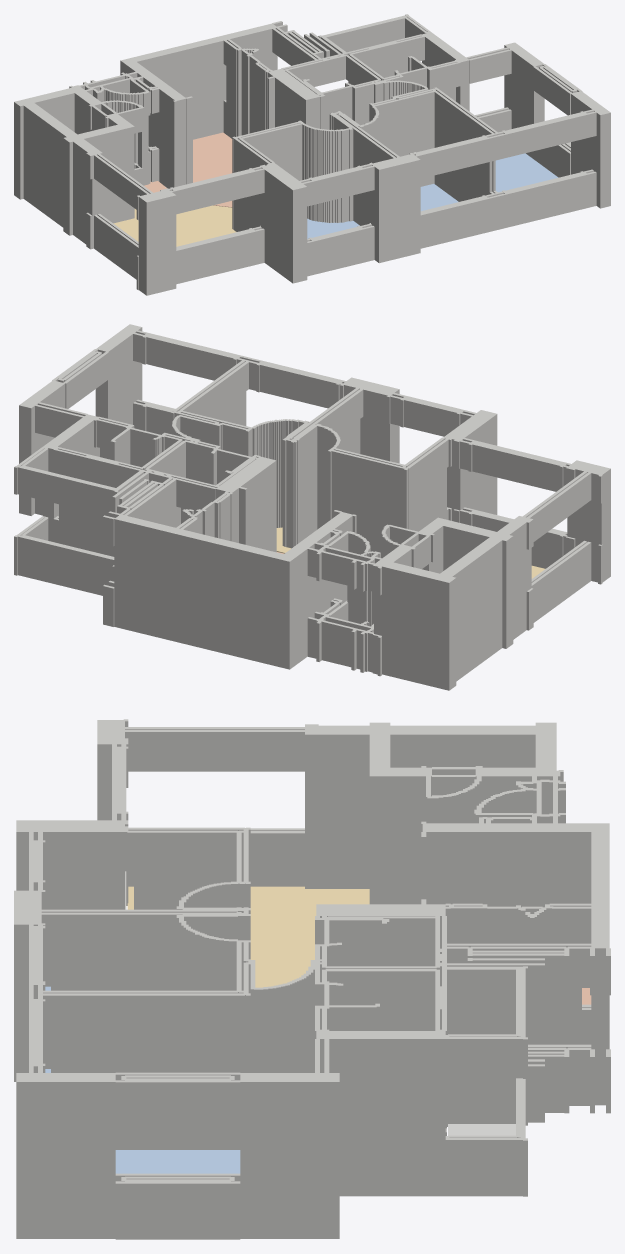
The picture shows the model from 3 angles, top to bottom: view 1: azimuth 30°, elevation 25°; view 2: azimuth 150°, elevation 25°; view 3: azimuth 270°, elevation 25°; orthographic projection. The views are drawn at different scales.
Parts seen in each view (by area): view 1: walls, room:living:1, room:kitchen:4, room:bedroom:9, room:bedroom:7, room:bedroom:6; view 2: walls; view 3: walls, room:living:1, room:bedroom:9, room:ledge:0.
Part boxes in pixels (<box>): walls: <box>14,14,610,295</box>; room:living:1: <box>113,205,236,246</box>; room:kitchen:4: <box>144,132,232,207</box>; room:bedroom:9: <box>495,153,558,192</box>; room:bedroom:7: <box>420,184,458,211</box>; room:bedroom:6: <box>307,218,359,238</box>; walls: <box>14,324,610,690</box>; walls: <box>14,719,610,1239</box>; room:living:1: <box>127,886,369,987</box>; room:bedroom:9: <box>115,1150,240,1173</box>; room:ledge:0: <box>448,1124,515,1135</box>.
Size of the model in its own units: 13.86 by 2.8 by 9.63.
